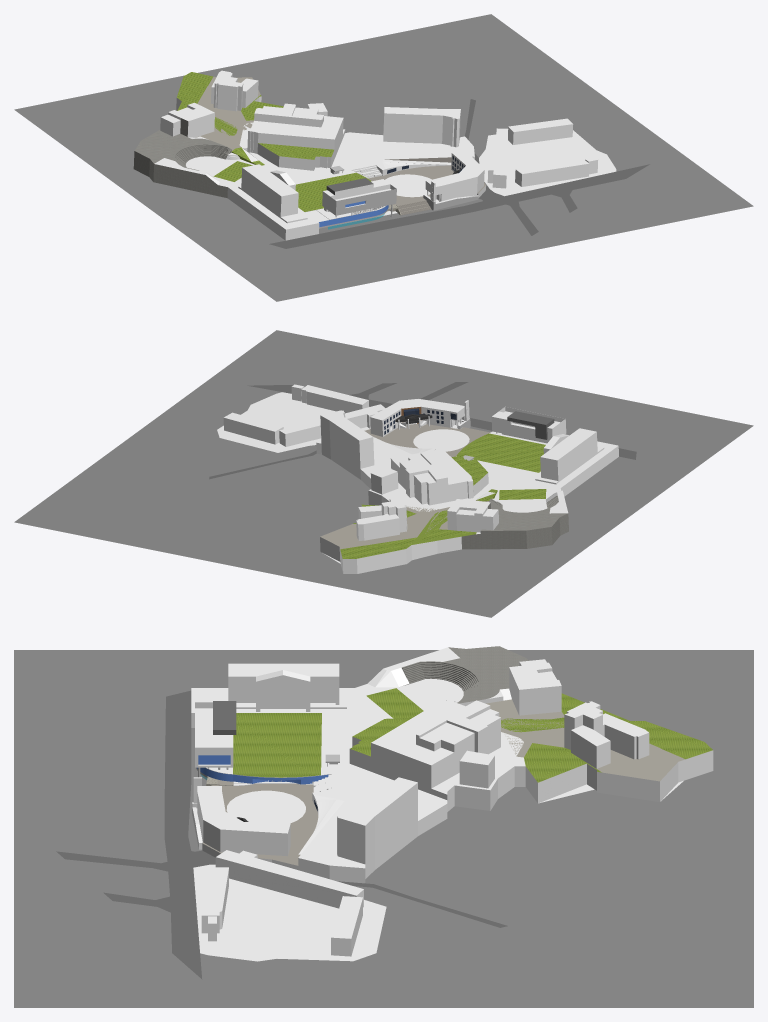
The model's file is 학교맵파일.fbx.
3 renders of one model, top to bottom at view 1: azimuth 30°, elevation 25°; view 2: azimuth 150°, elevation 25°; view 3: azimuth 270°, elevation 25°, orthographic. The views are drawn at different scales.
Visible parts, largest first — view 1: Model; view 2: Model; view 3: Model.
Boxes of the visible parts, box(x1,y1,x2,y2) form: Model: box(14, 14, 753, 301); Model: box(14, 330, 753, 617); Model: box(14, 646, 753, 1007).
Size of the model in its own units: 365600 by 40176 by 348342.
